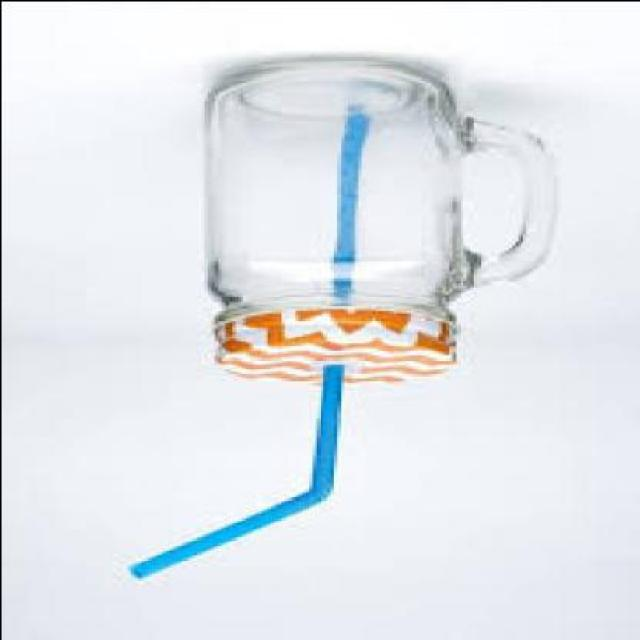GLASS: (202, 59, 553, 326)
METAL: (207, 312, 456, 379)
